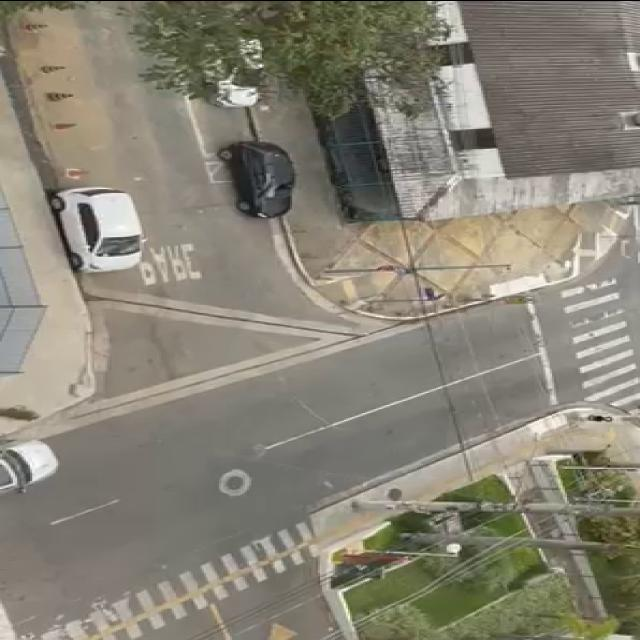car: (43, 172, 149, 276), (212, 136, 308, 227), (187, 14, 278, 110), (0, 428, 68, 504)
